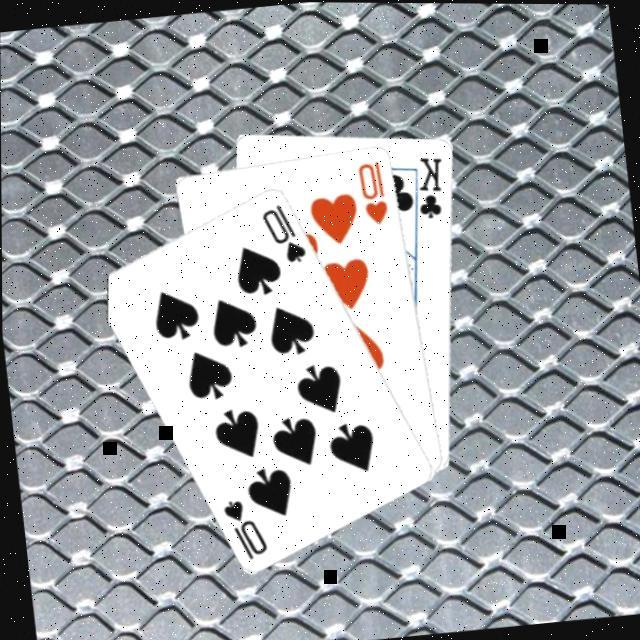10H: (355, 155, 394, 227)
10S: (219, 490, 273, 562), (259, 196, 312, 266)
KC: (405, 149, 452, 225)
